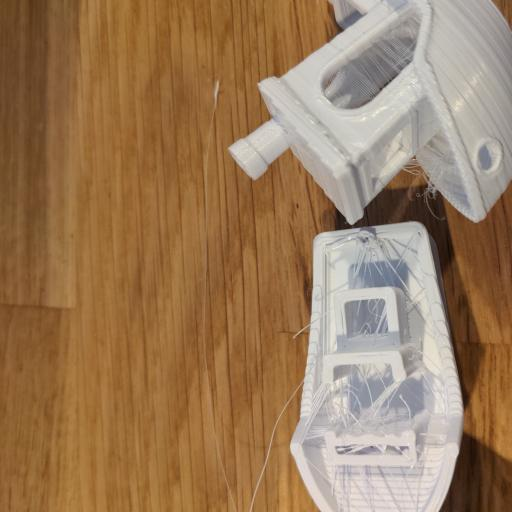stringing: (329, 25, 408, 104), (332, 356, 400, 438), (351, 234, 414, 292)
